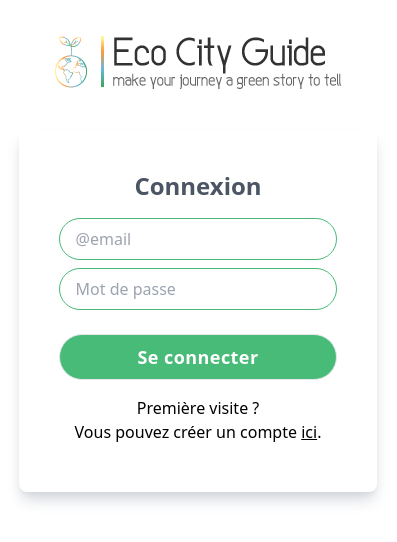
Scenario: SignIn Page › No redirection if user is not recorded in dataBase and not successfully connected
Type "axhje@lpdhdue.com" into the field with placeholder "@email" at [198, 239], box [59, 218, 337, 260]
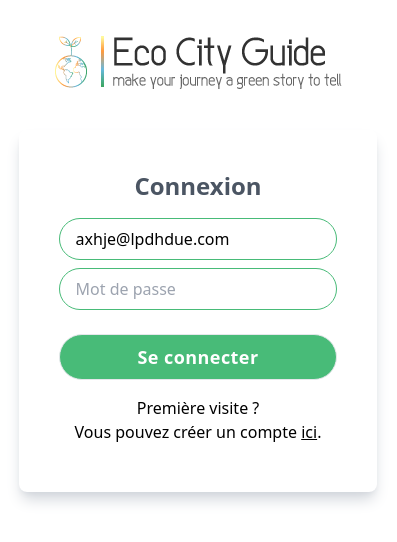
Type "123456789012" into the password field with placeholder "Mot de passe" at [198, 289], box [59, 268, 337, 310]
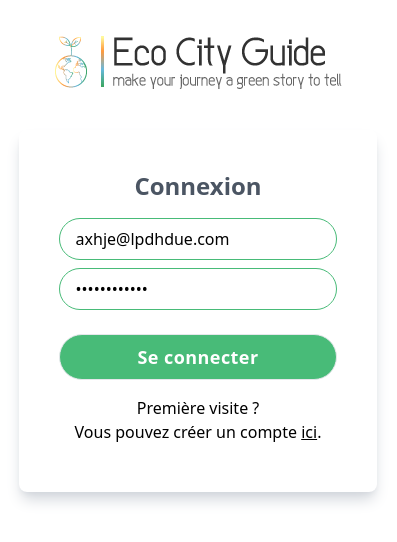
Submit the form
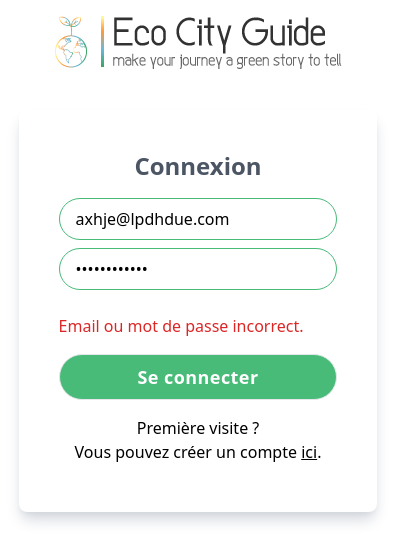
Expected: the text "Email ou mot de passe incorrect." is shown, [59, 314, 337, 338]
